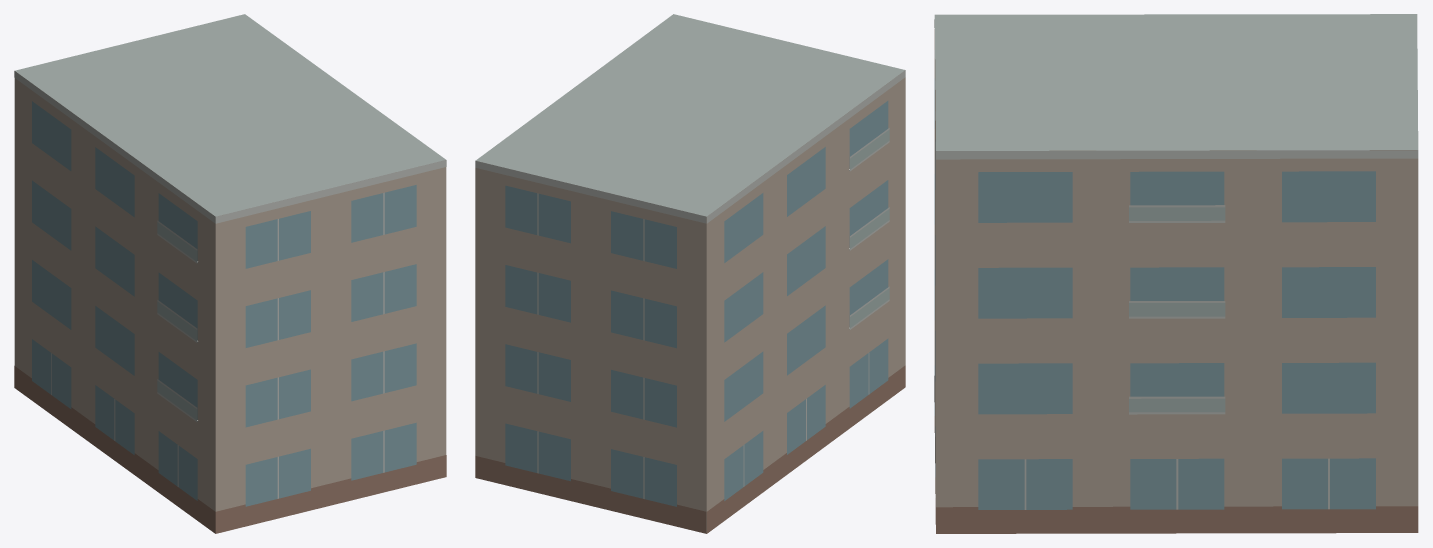
File: survey-upis-32520145.glb
3 views of the same model, side by side, from view 1: azimuth 30°, elevation 25°; view 2: azimuth 150°, elevation 25°; view 3: azimuth 270°, elevation 25° (orthographic). The views are drawn at different scales.
Visible parts, largest first — view 1: survey-upis-32520145.tmp; view 2: survey-upis-32520145.tmp; view 3: survey-upis-32520145.tmp.
Boxes of the visible parts, x1=… form: survey-upis-32520145.tmp: x1=14, y1=14, x2=446, y2=533; survey-upis-32520145.tmp: x1=475, y1=14, x2=905, y2=533; survey-upis-32520145.tmp: x1=934, y1=14, x2=1418, y2=533.
Bounding box in the file's own units: 8.43 × 10.96 × 12.56.
